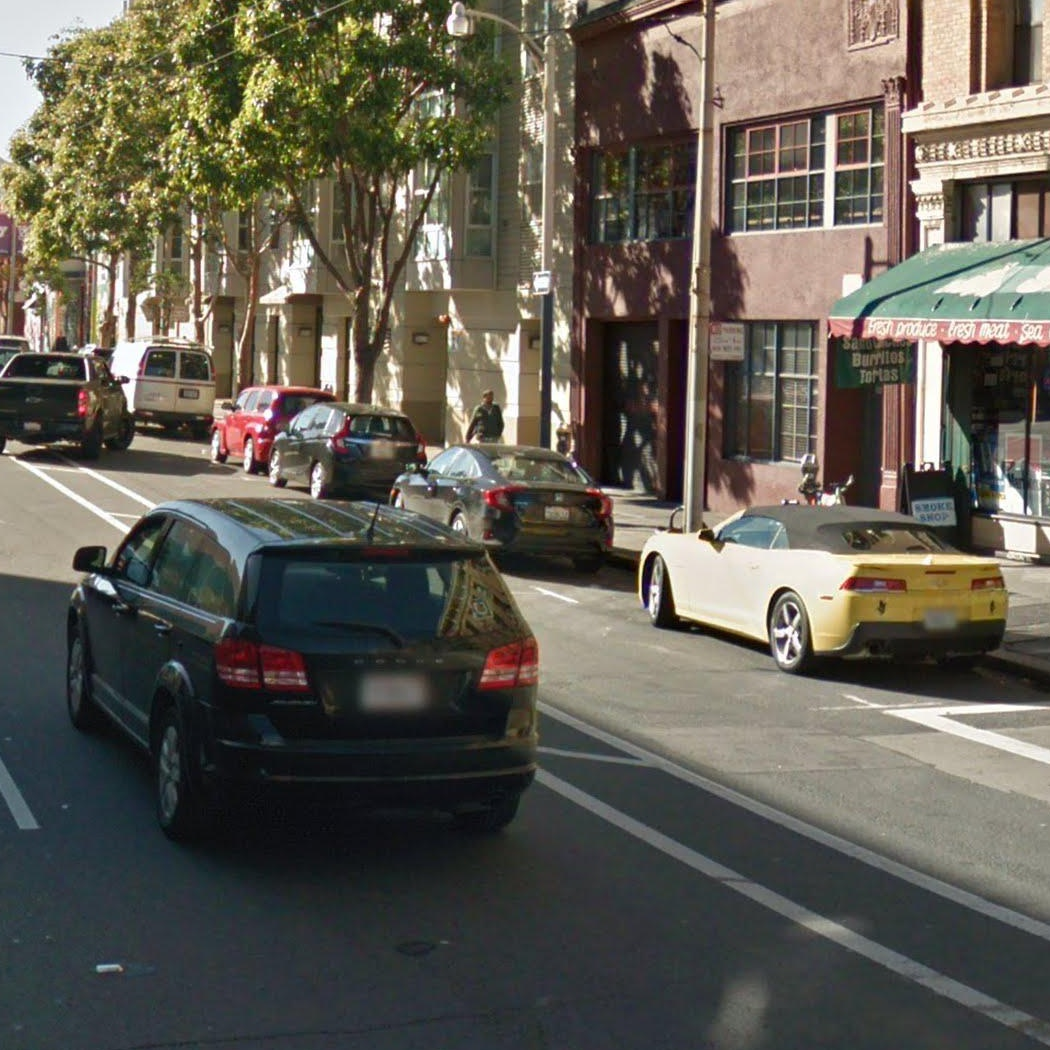No Parking: (709, 321, 746, 362)
